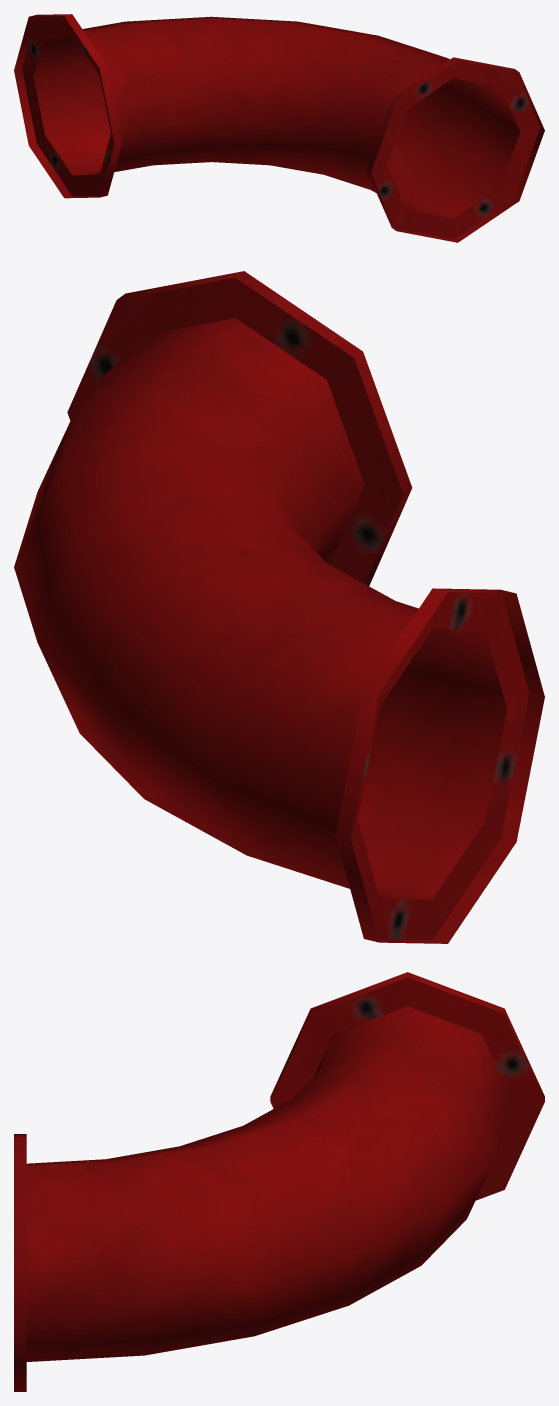
The model's file is PipeBig_SmallCorner.FBX.
The picture shows the model from 3 angles, top to bottom: view 1: azimuth 30°, elevation 25°; view 2: azimuth 150°, elevation 25°; view 3: azimuth 270°, elevation 25°; orthographic projection. The views are drawn at different scales.
Parts seen in each view (by area): view 1: PipeBig_SmallCorner; view 2: PipeBig_SmallCorner; view 3: PipeBig_SmallCorner.
Boxes of the visible parts, box(x1,y1,x2,y2) form: PipeBig_SmallCorner: box(14, 14, 544, 242); PipeBig_SmallCorner: box(14, 271, 544, 943); PipeBig_SmallCorner: box(14, 972, 544, 1391).
Size of the model in its own units: 9.9 by 5.12 by 9.9.
